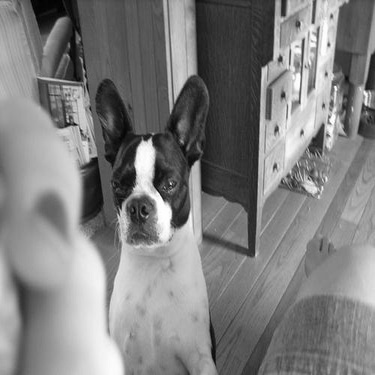dog: (77, 61, 231, 371)
